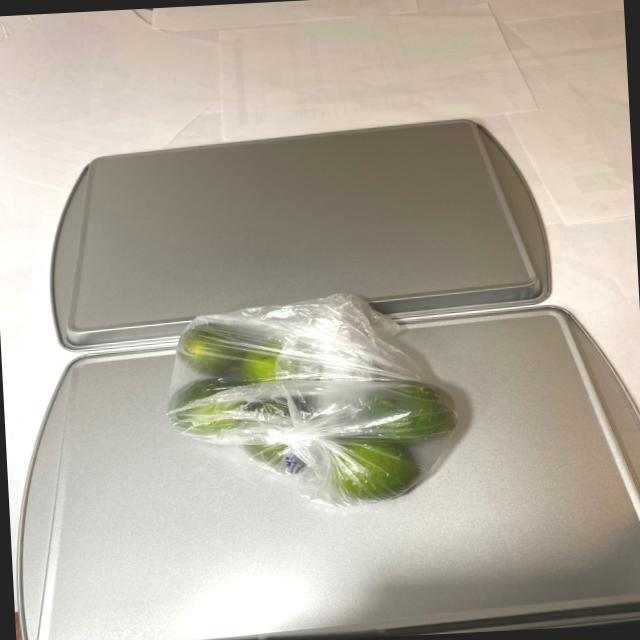lemon: (164, 298, 458, 509)
